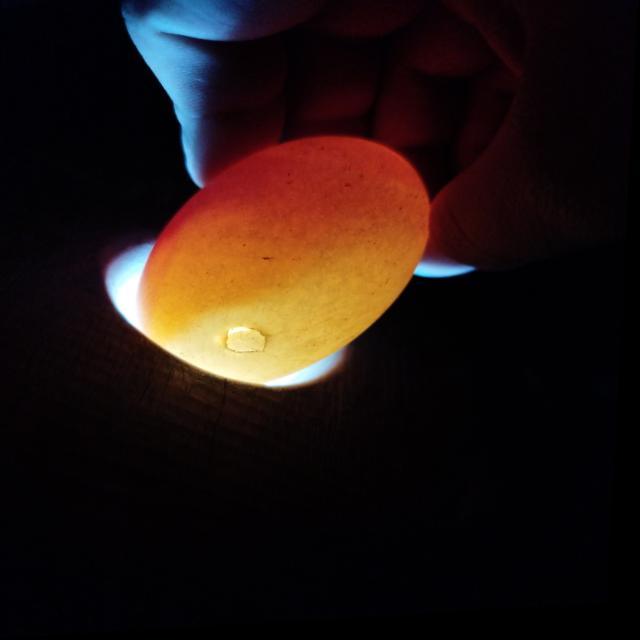Gema Quebrada: (155, 141, 427, 254)
Rachadura: (230, 329, 271, 356)
